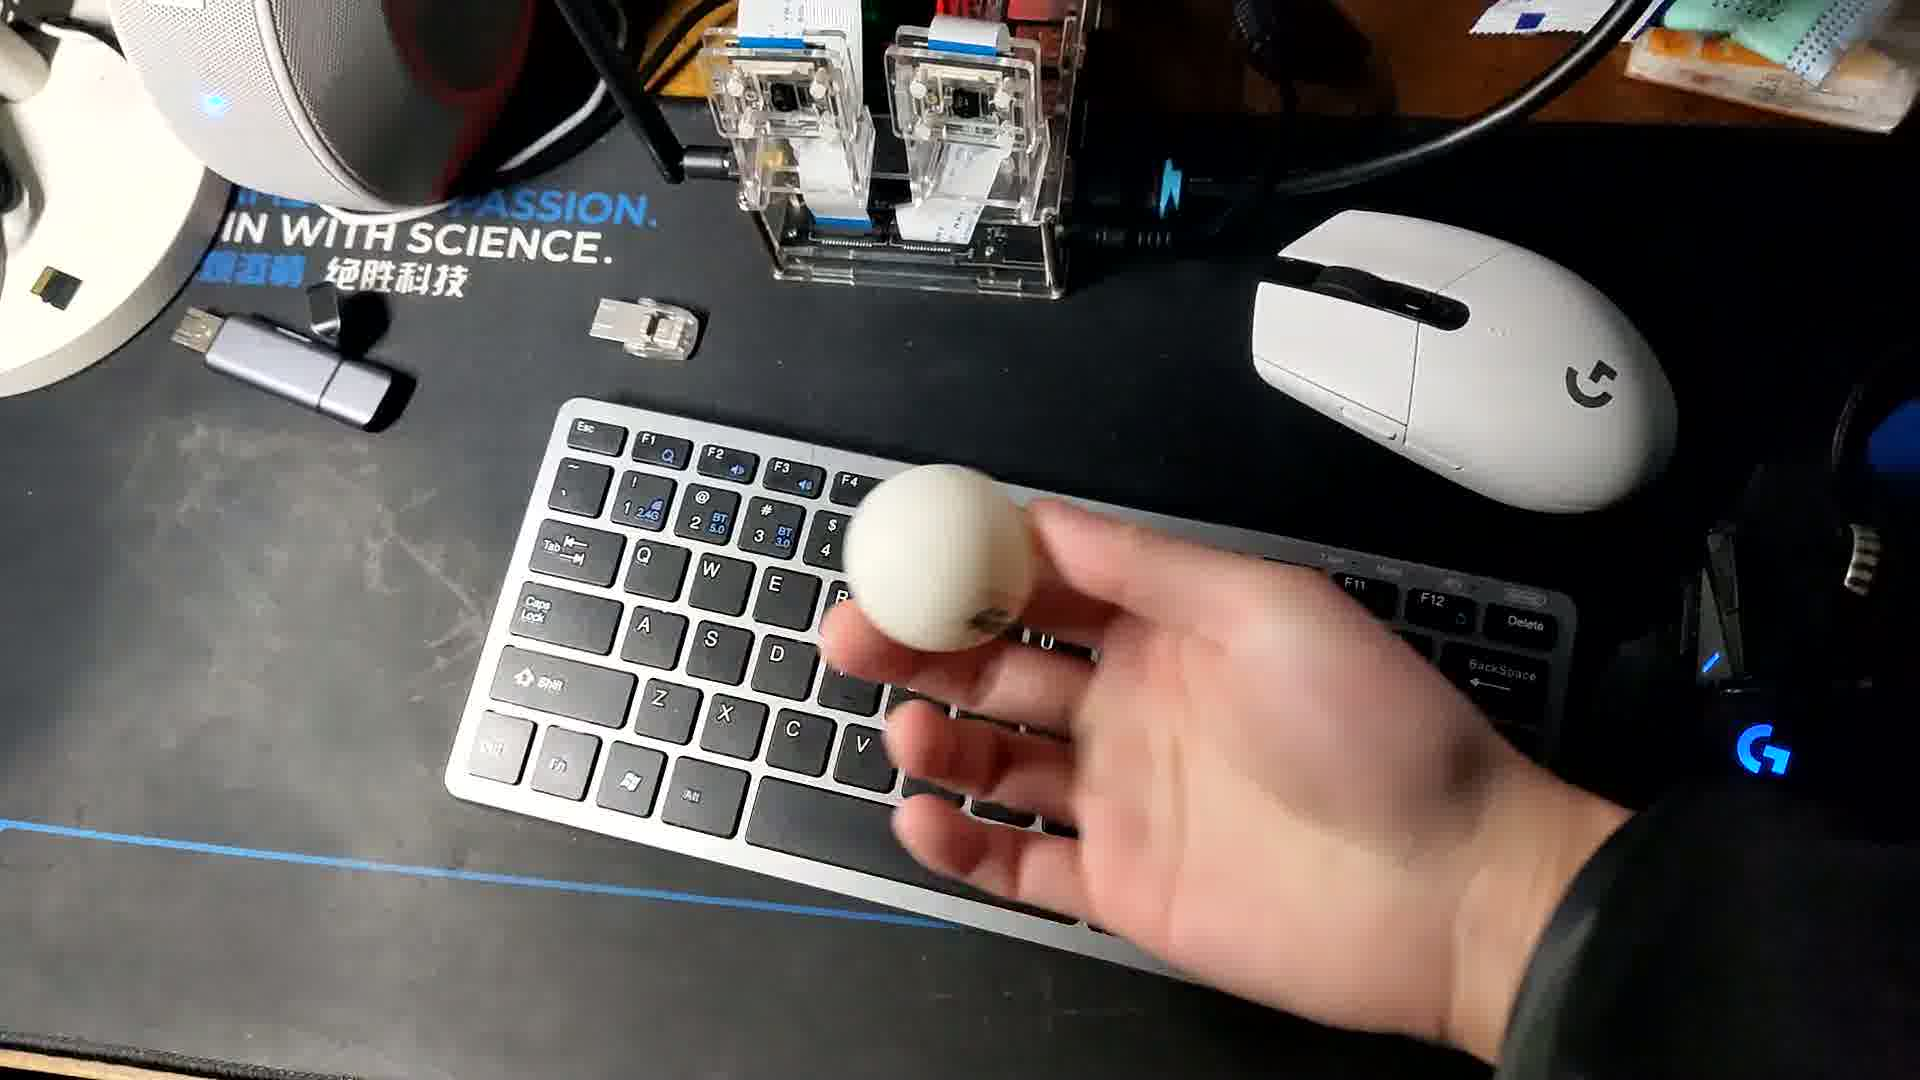Ball: (843, 465, 1040, 650)
